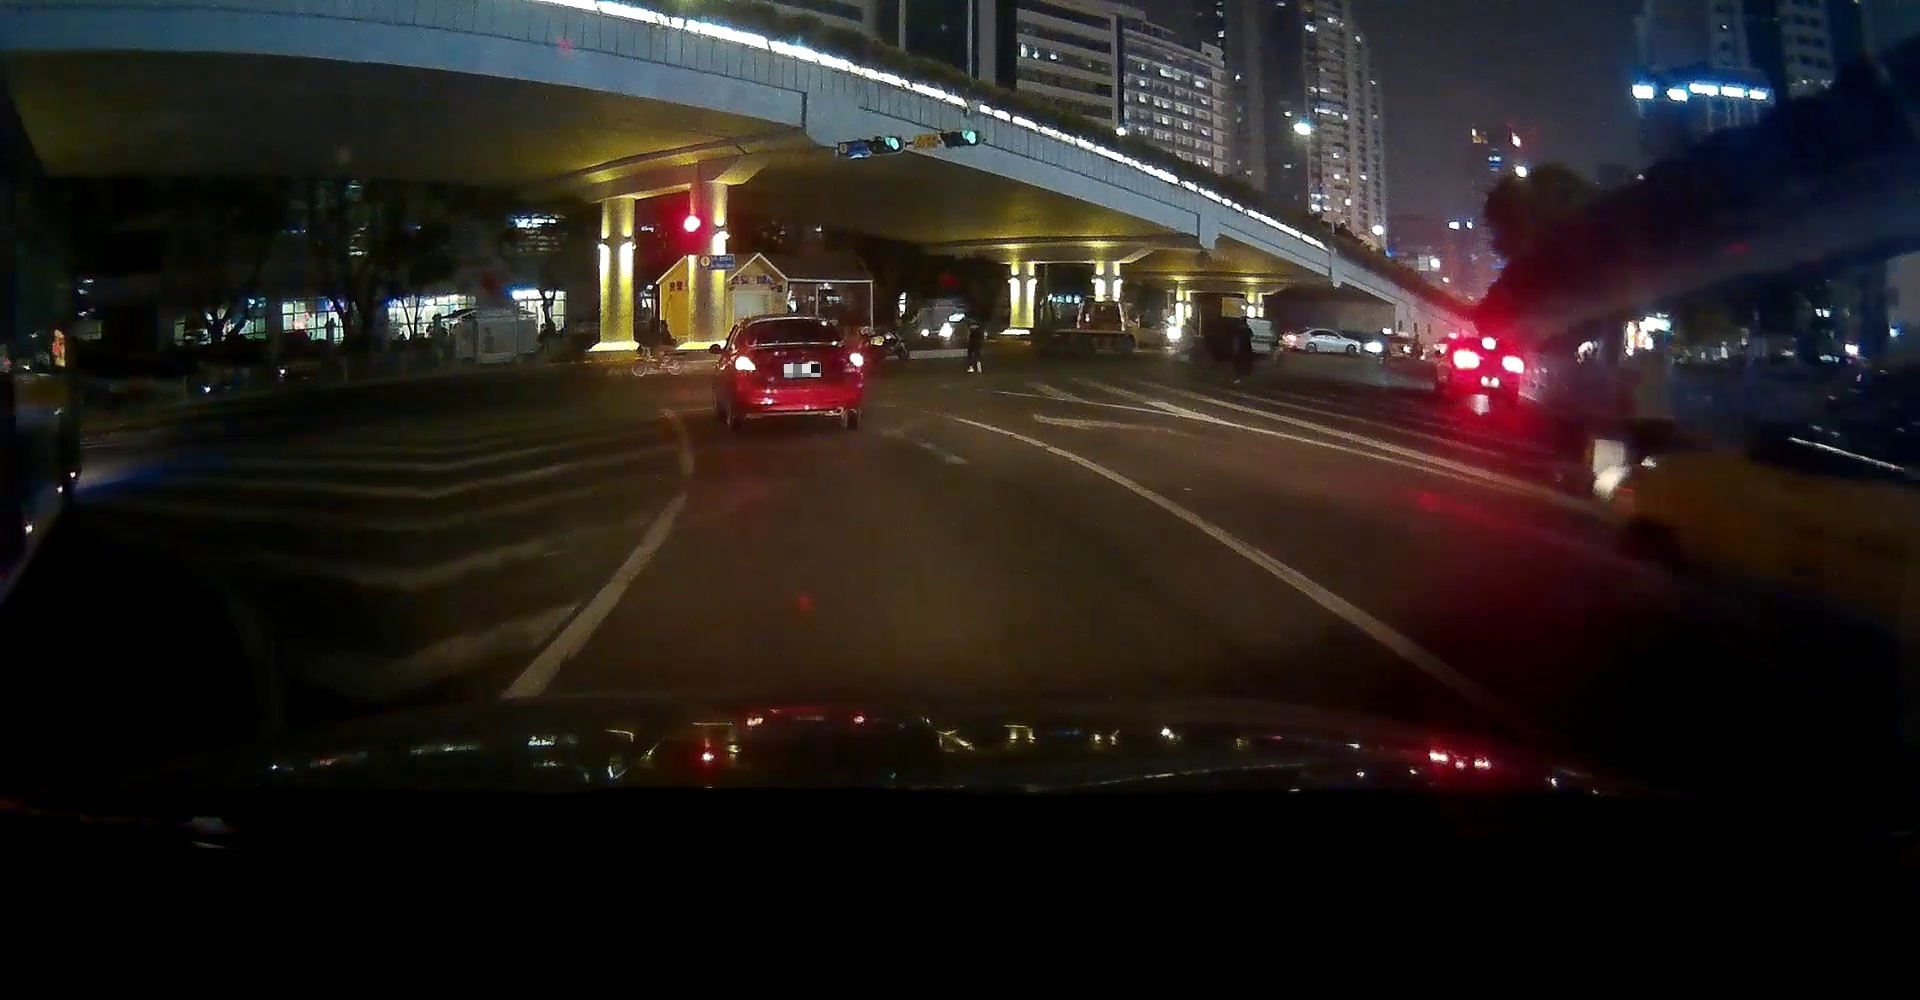L_light: (734, 357, 756, 371)
R_light: (850, 353, 863, 367)
T_light: (782, 319, 801, 324)
night-no: (733, 315, 863, 428)
plate_1: (783, 364, 822, 377)
